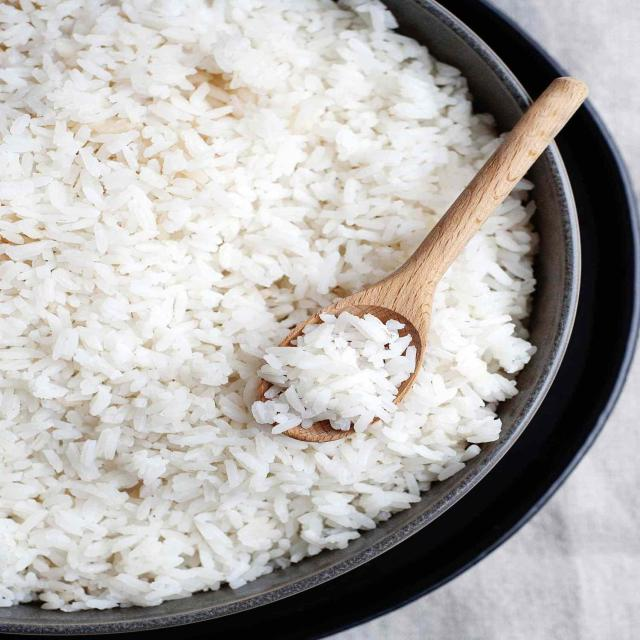rice: (3, 0, 558, 616)
